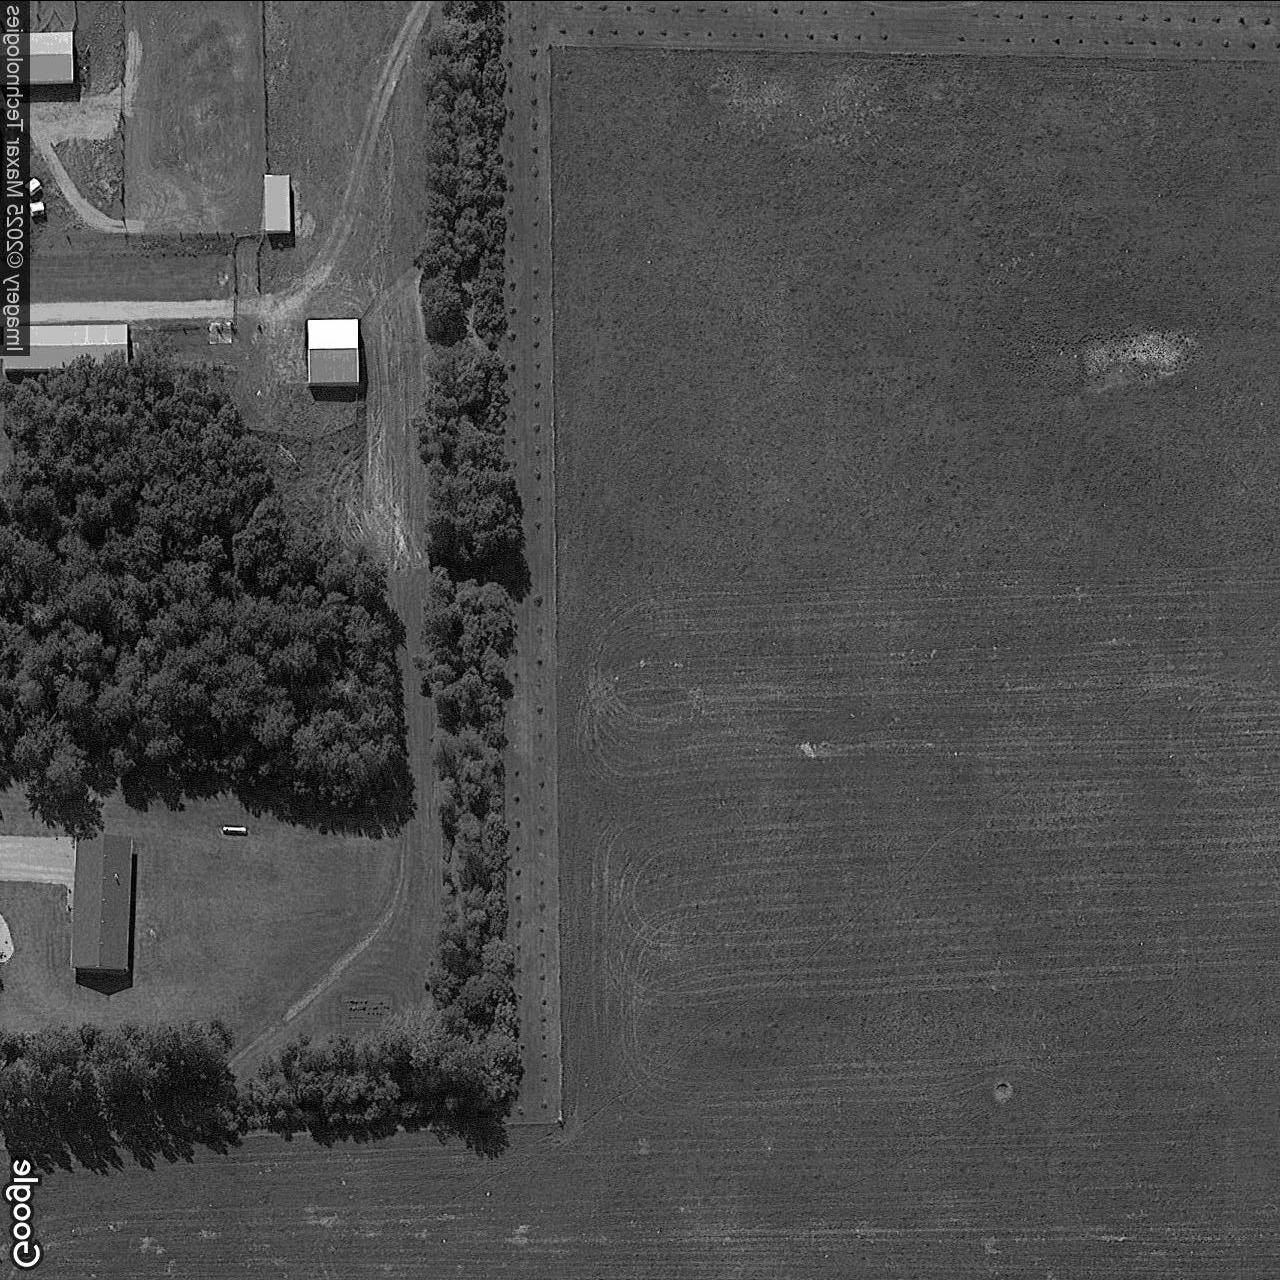House: (70, 832, 134, 974)
Other: (6, 321, 129, 370), (1, 30, 74, 83), (306, 316, 360, 387), (264, 172, 291, 233)
Propane: (219, 822, 250, 835)
